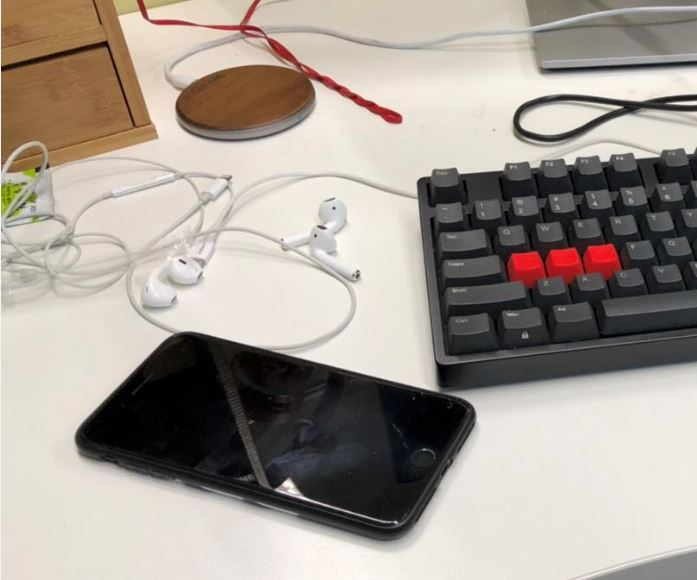mobil: (67, 329, 481, 545)
